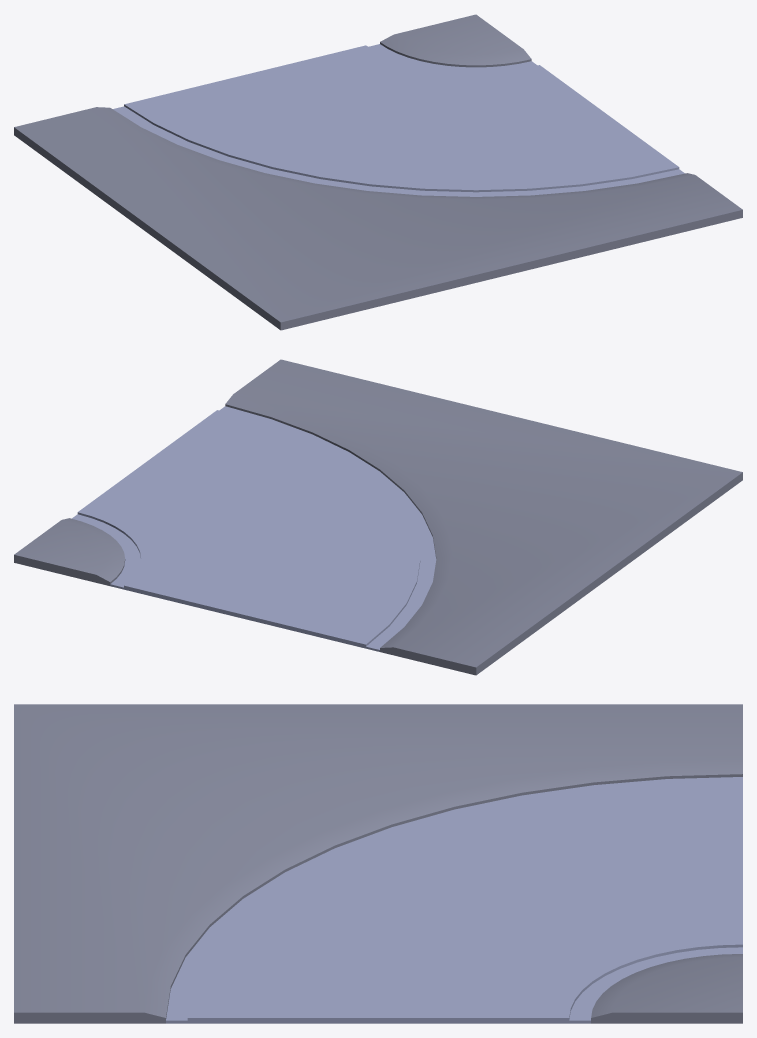
The model's file is road-bend.glb.
3 views of the same model, one above another, from view 1: azimuth 30°, elevation 25°; view 2: azimuth 150°, elevation 25°; view 3: azimuth 270°, elevation 25° (orthographic). The views are drawn at different scales.
Visible parts, largest first — view 1: road-bend; view 2: road-bend; view 3: road-bend.
Part boxes in pixels (bbox=[...]): road-bend: bbox=[14, 14, 742, 330]; road-bend: bbox=[14, 359, 742, 675]; road-bend: bbox=[14, 704, 742, 1023].
Size of the model in its own units: 3 by 0.05 by 3.
Materials: 1 (1 with a texture image).
